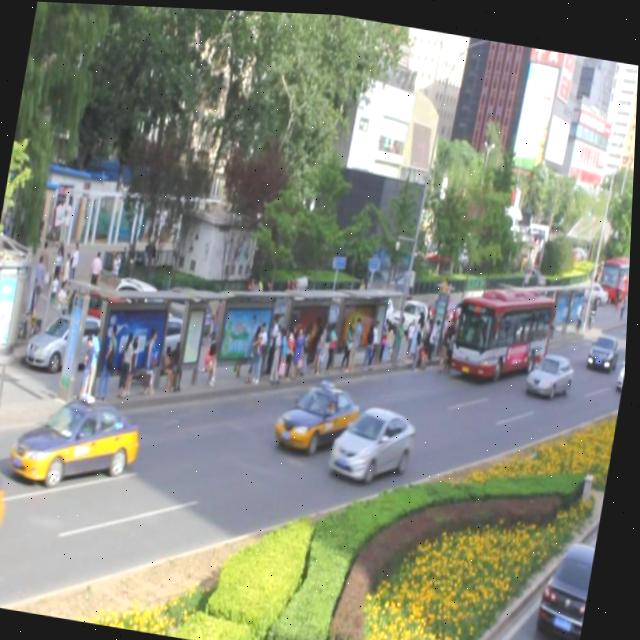car: (12, 384, 149, 499), (330, 395, 420, 485), (274, 372, 366, 458), (526, 341, 578, 394), (587, 323, 622, 367), (0, 458, 14, 558), (617, 341, 629, 383)
van: (446, 270, 556, 382)
